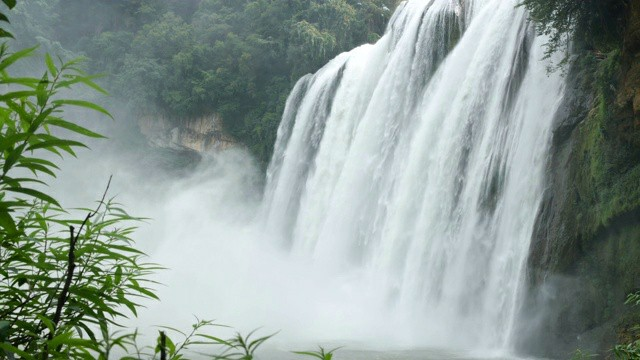Huangguoshu: (269, 1, 572, 360)
